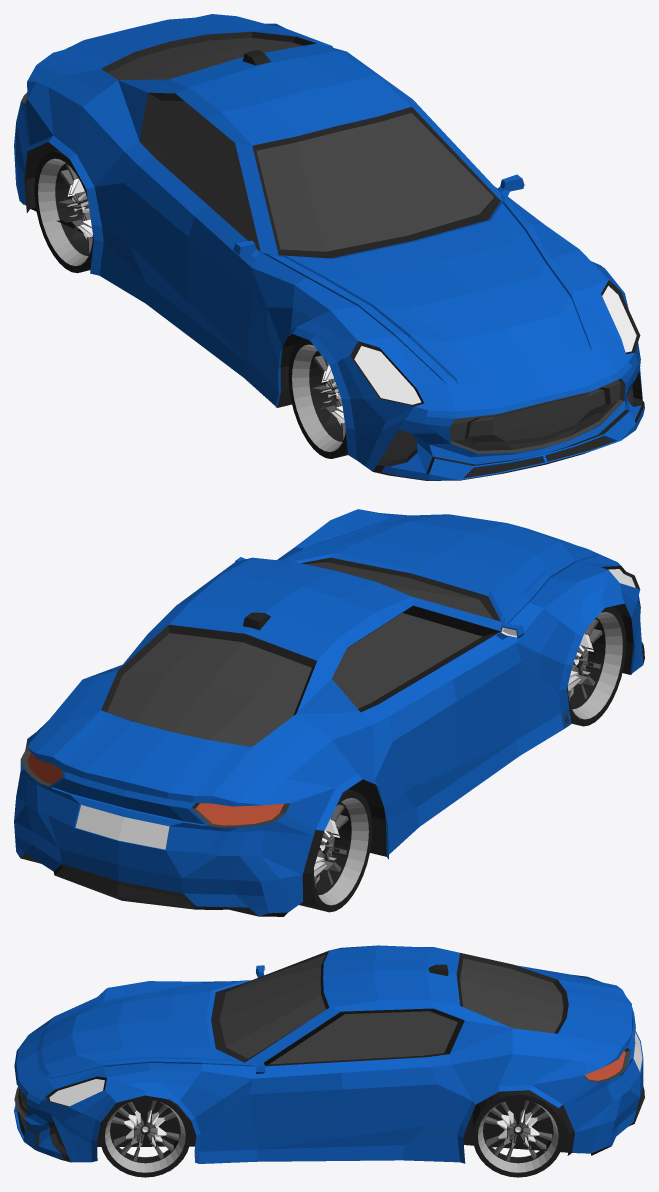
The model's file is maseratigranturismofolgore.fbx.
3 views of the same model, one above another, from view 1: azimuth 30°, elevation 25°; view 2: azimuth 150°, elevation 25°; view 3: azimuth 270°, elevation 25° (orthographic). The views are drawn at different scales.
Parts seen in each view (by area): view 1: BlueBody, BackRight, FrontRight; view 2: BlueBody, BackRight, FrontRight; view 3: BlueBody, BackLeft, FrontLeft.
Part boxes in pixels (x1,y1,x2,y2): BlueBody: (14,14,644,480); BackRight: (34,150,93,273); FrontRight: (288,338,347,458); BlueBody: (14,509,644,916); BackRight: (299,789,372,912); FrontRight: (567,606,626,726); BlueBody: (14,945,644,1163); BackLeft: (472,1090,563,1177); FrontLeft: (99,1095,190,1177).
Size of the model in its own units: 2 by 4.97 by 1.41.
